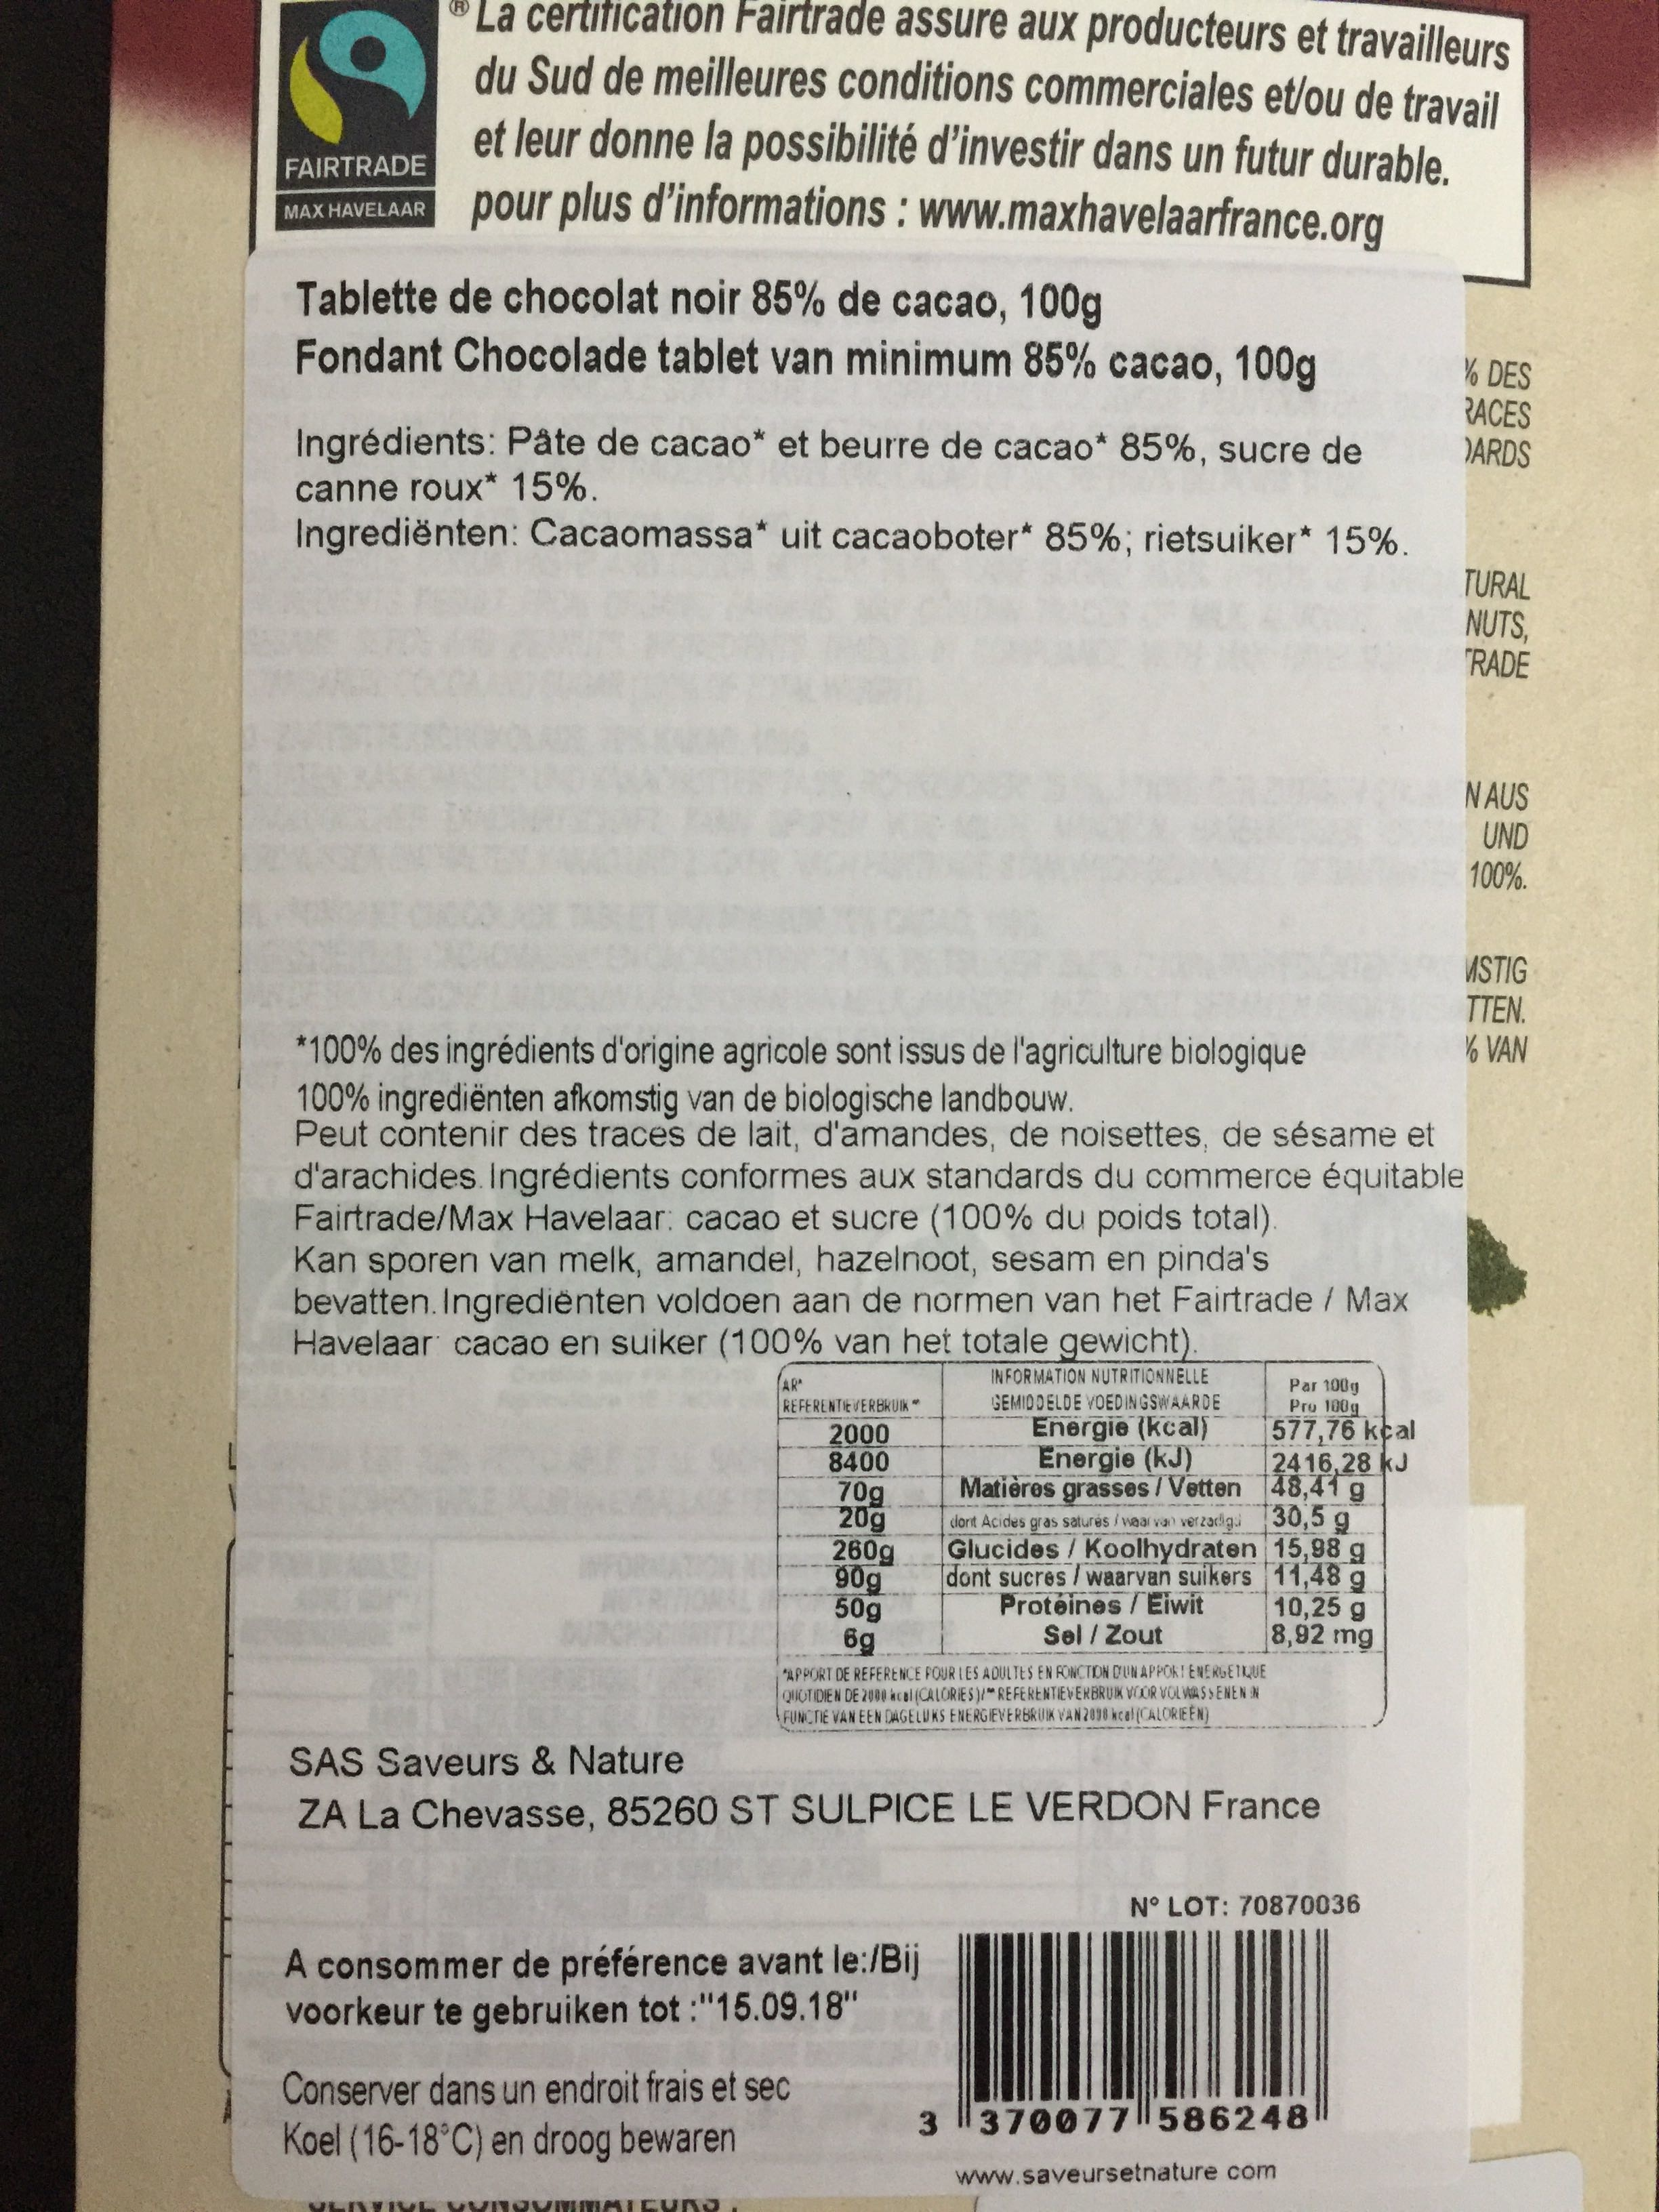column: (946, 1367, 1256, 1649), (777, 1374, 918, 1653), (1272, 1378, 1415, 1649)
table: (769, 1359, 1419, 1665)
